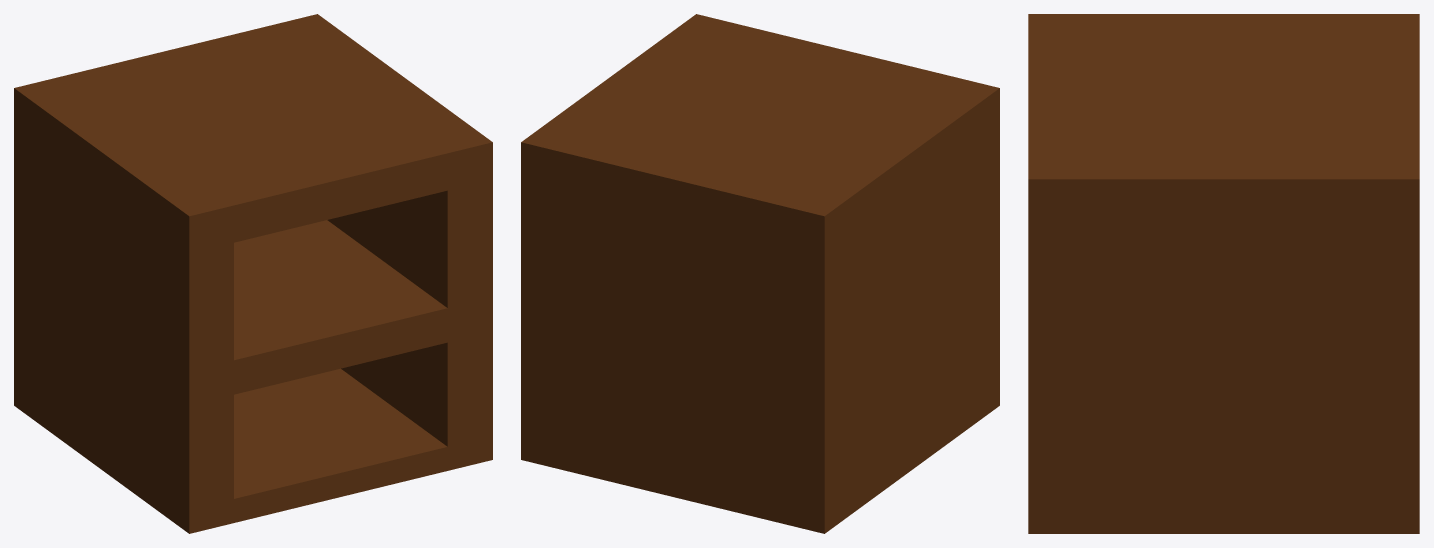
File: bed side table.glb
3 views of the same model, side by side, from view 1: azimuth 30°, elevation 25°; view 2: azimuth 150°, elevation 25°; view 3: azimuth 270°, elevation 25° (orthographic). The views are drawn at different scales.
Visible parts, largest first — view 1: Cube; view 2: Cube; view 3: Cube.
Boxes of the visible parts, left/top/right/bottom form: Cube: left=14, top=14, right=492, bottom=533; Cube: left=521, top=14, right=999, bottom=533; Cube: left=1028, top=14, right=1419, bottom=533.
Bounding box in the file's own units: 1 × 1 × 1.
